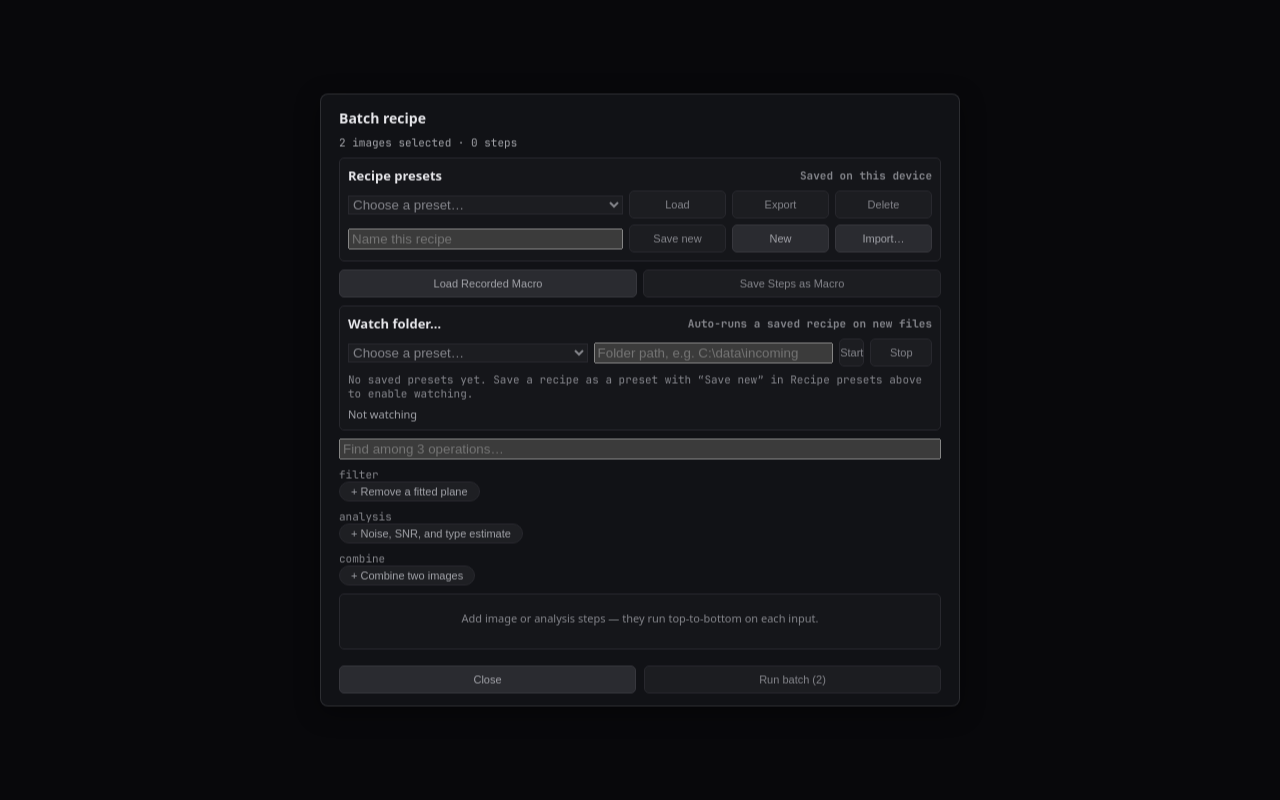
BatchDialog › filters the operation palette by name, summary, or category
Check: the button "+ Combine two images" is shown, box [339,566,475,586]
Step 1. Type "combine" into the search field named "Find an operation" → (640, 449), box [339,438,941,460]
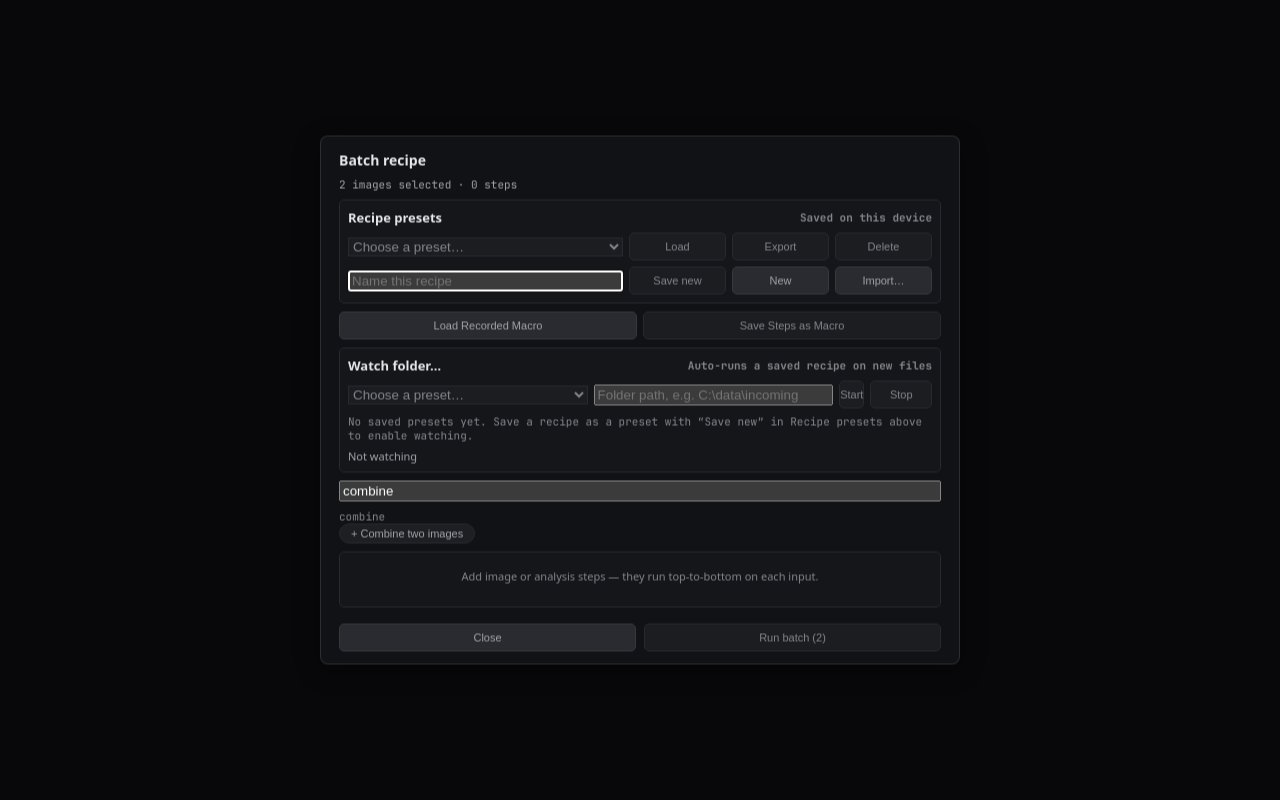
Check: the button "+ Combine two images" is shown, box [339,524,475,544]
Check: the button "+ Remove a fitted plane" is gone
